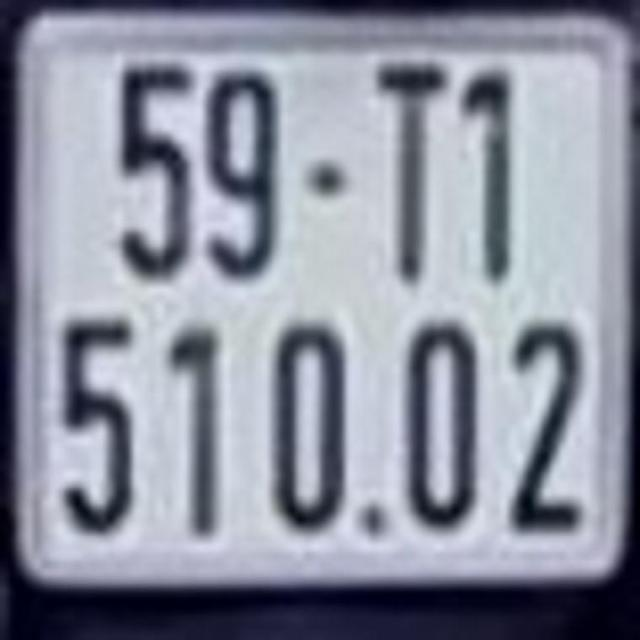0: (265, 311, 347, 534), (402, 314, 480, 530)
1: (161, 316, 226, 542), (458, 62, 521, 287)
2: (498, 308, 588, 534)
5: (58, 312, 137, 543), (114, 56, 194, 280)
9: (203, 62, 280, 286)
T: (369, 53, 450, 282)
